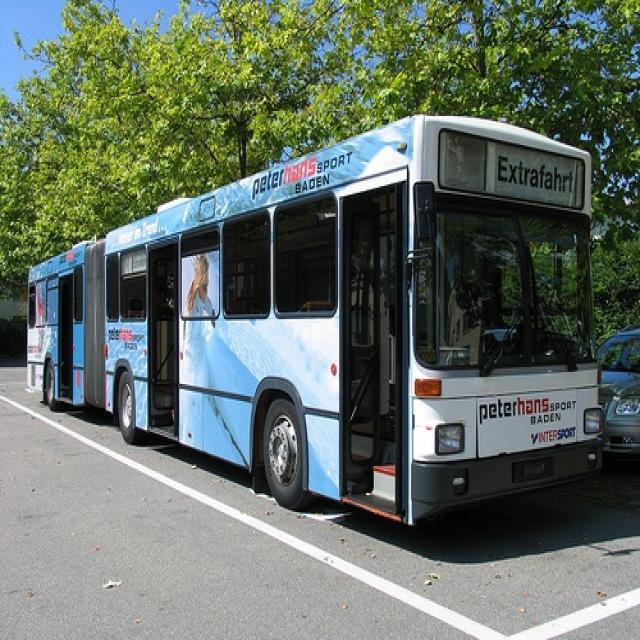bus: (26, 113, 602, 524)
car: (595, 324, 639, 459)
